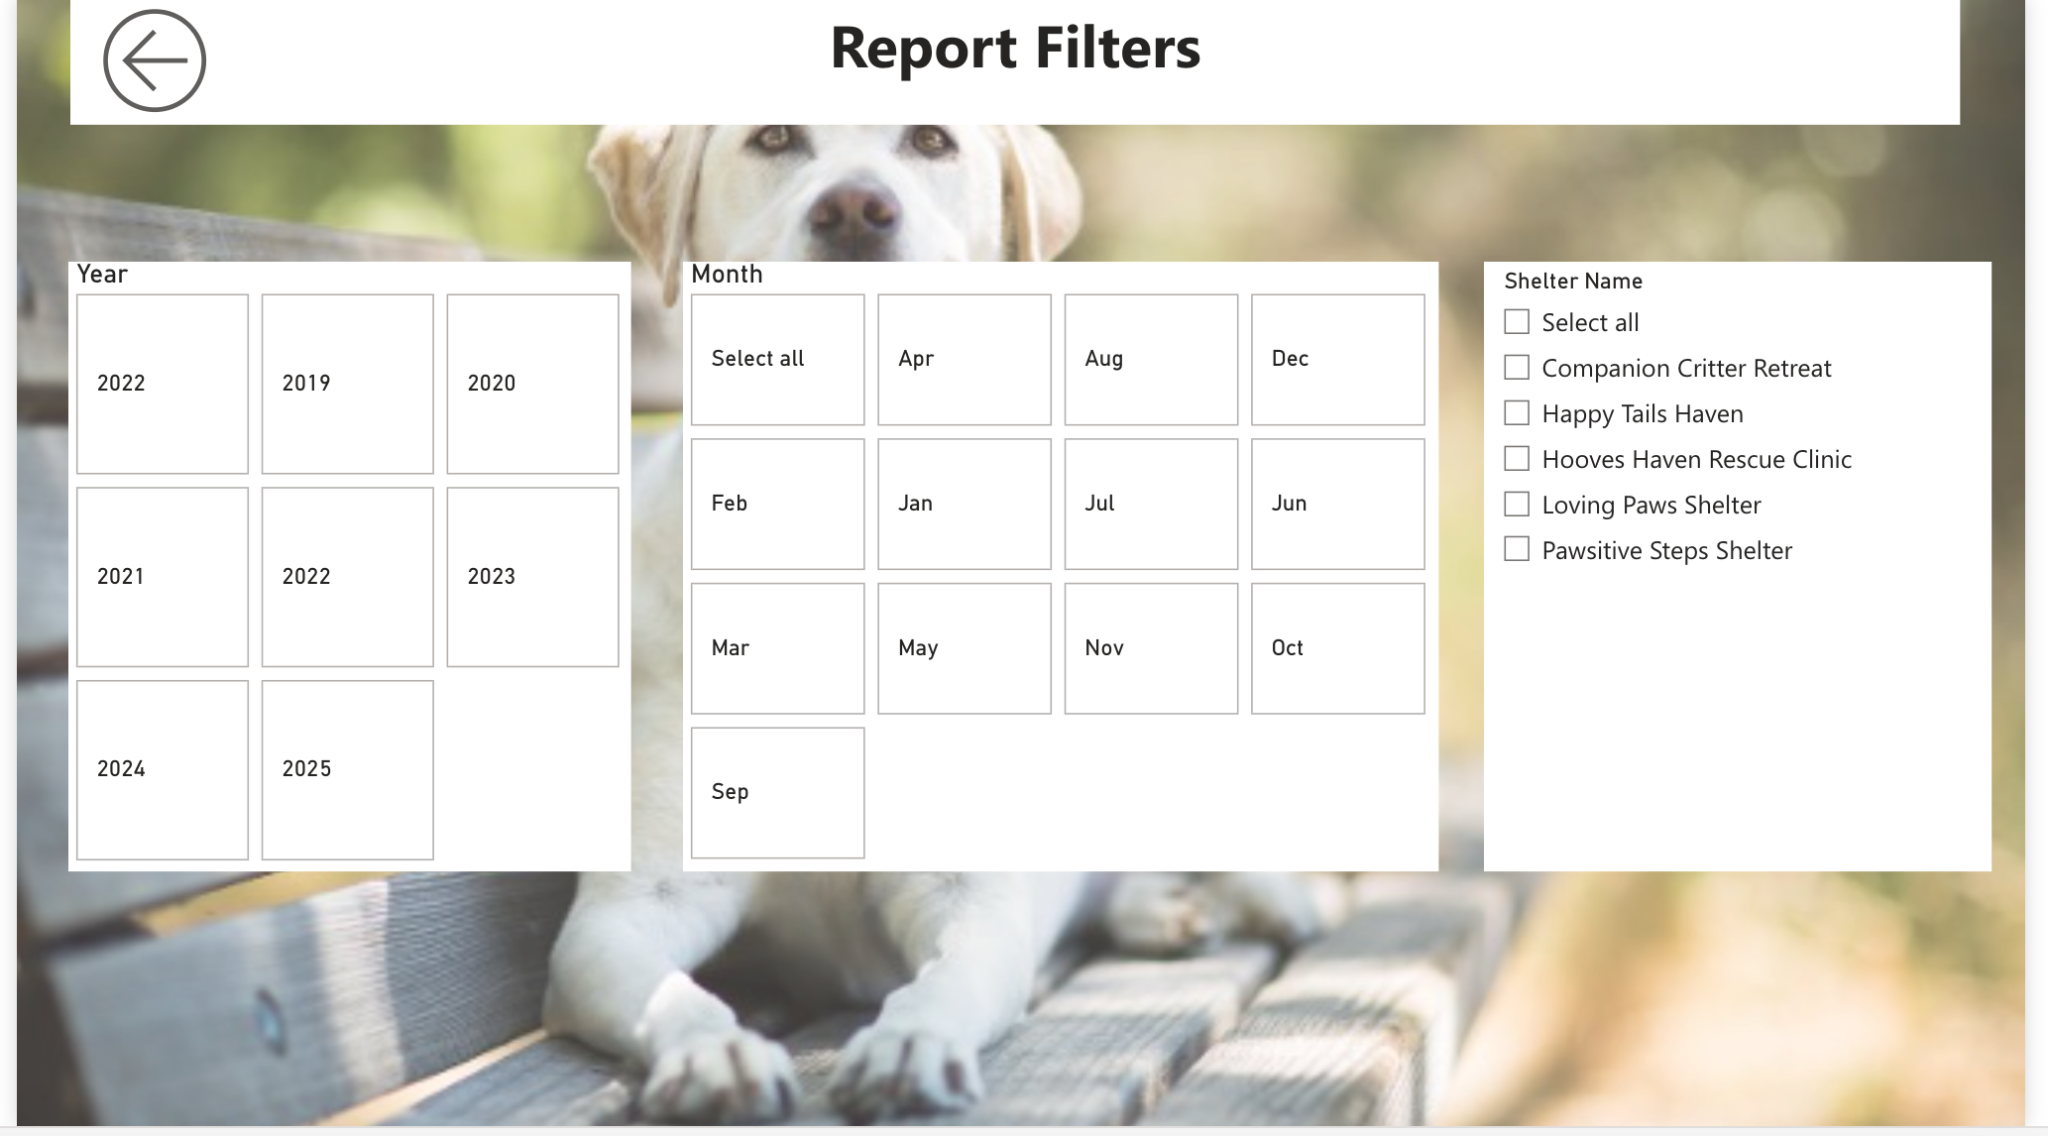

Layout of this report page (visuals, bound fields, positions):
{"tool":"powerbi","page":{"name":"Report Filters","canvas":[1280,720],"ordinal":1},"visuals":[{"type":"advancedSlicerVisual","fields":{"Values":["dimDate.Year"]},"box":[33.2,169.3,358.6,388.5],"z":0},{"type":"advancedSlicerVisual","fields":{"Values":["dimDate.Month"]},"box":[425,169.3,481.5,388.5],"z":1000},{"type":"slicer","fields":{"Values":["pc_shelter.Shelter Name"]},"box":[934.4,169.9,323.6,388.3],"z":2000},{"type":"textbox","box":[33.7,0,1204,82.2],"z":3000},{"type":"actionButton","box":[47.2,0,117.3,82.2],"z":4000}]}

Visuals, with their boxes in screenshot pixels (x1, y1, x2, y2), scaled from the page's 1280x720 canvas onto the 2048x1136 screenshot:
advancedSlicerVisual - dimDate.Year: 53, 267, 627, 880
advancedSlicerVisual - dimDate.Month: 680, 267, 1450, 880
slicer - pc_shelter.Shelter Name: 1495, 268, 2013, 881
textbox: 54, 0, 1980, 130
actionButton: 76, 0, 263, 130
